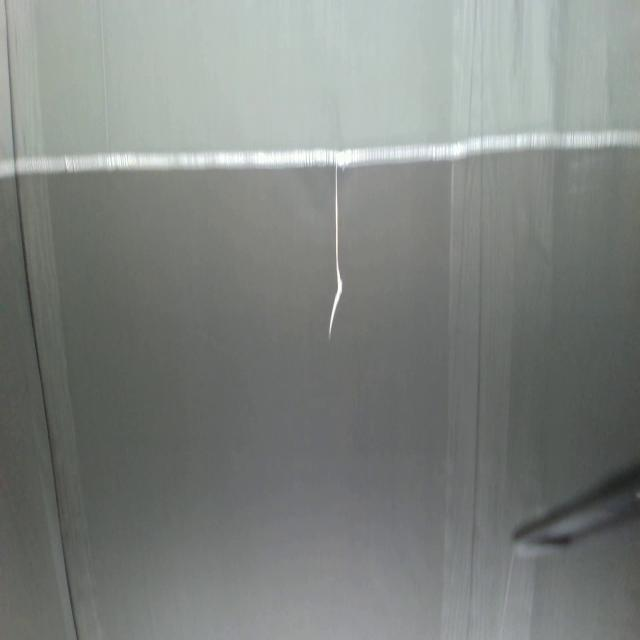crease: (1, 1, 83, 640), (439, 0, 488, 629)
